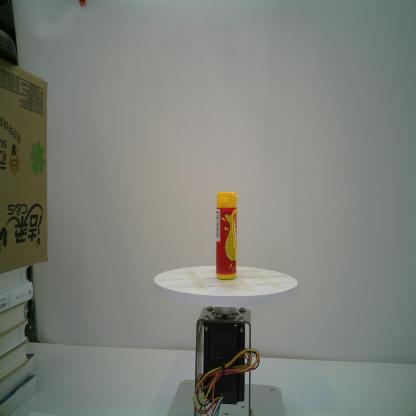Candy: (216, 192, 239, 280)
